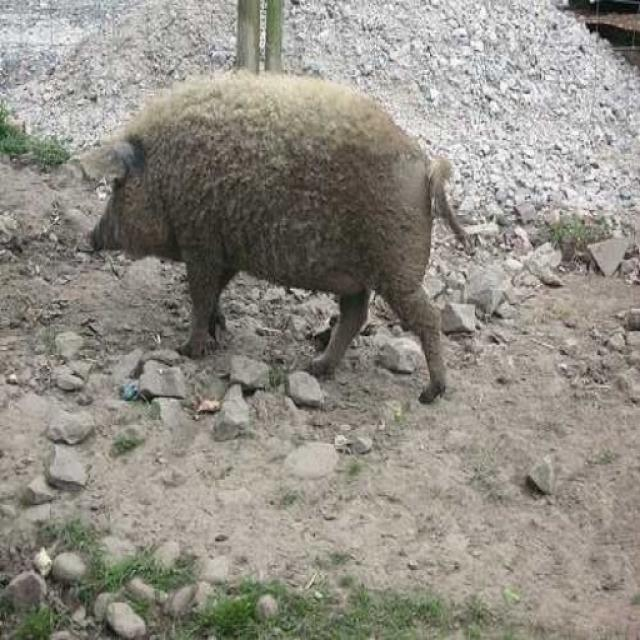pig: (68, 27, 479, 405)
